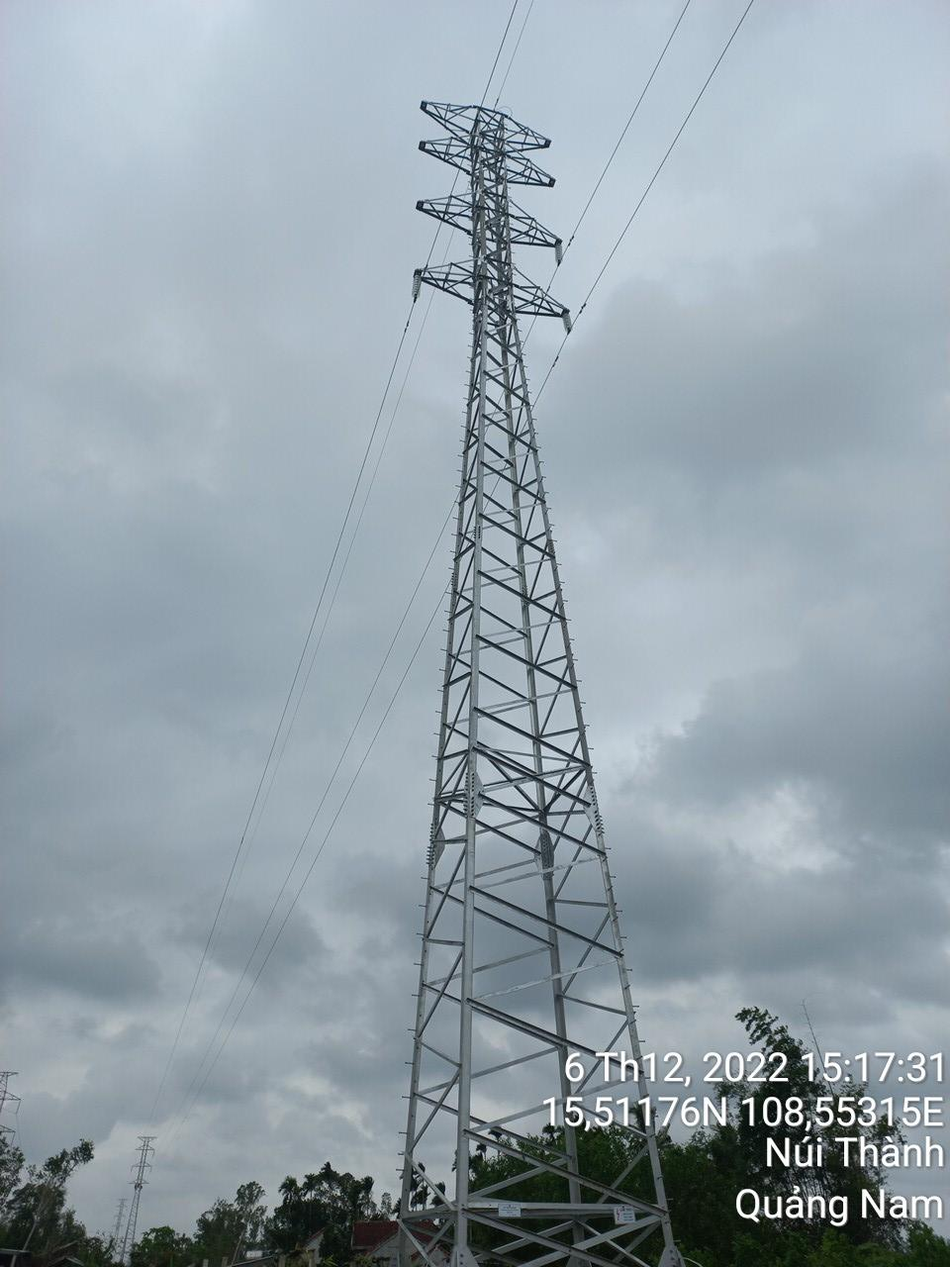power_tower: (358, 75, 633, 1031)
